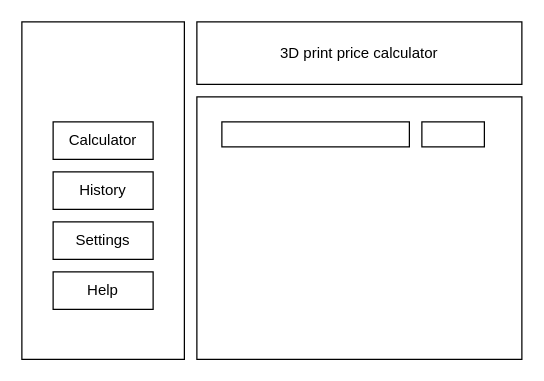
This 544x381 diagram has some shape labels left out. Here are the shapes that lost their labels. From the top down, the centre of each, then its label:
At (315,134): "file...".
At (452,134): "browse..".
